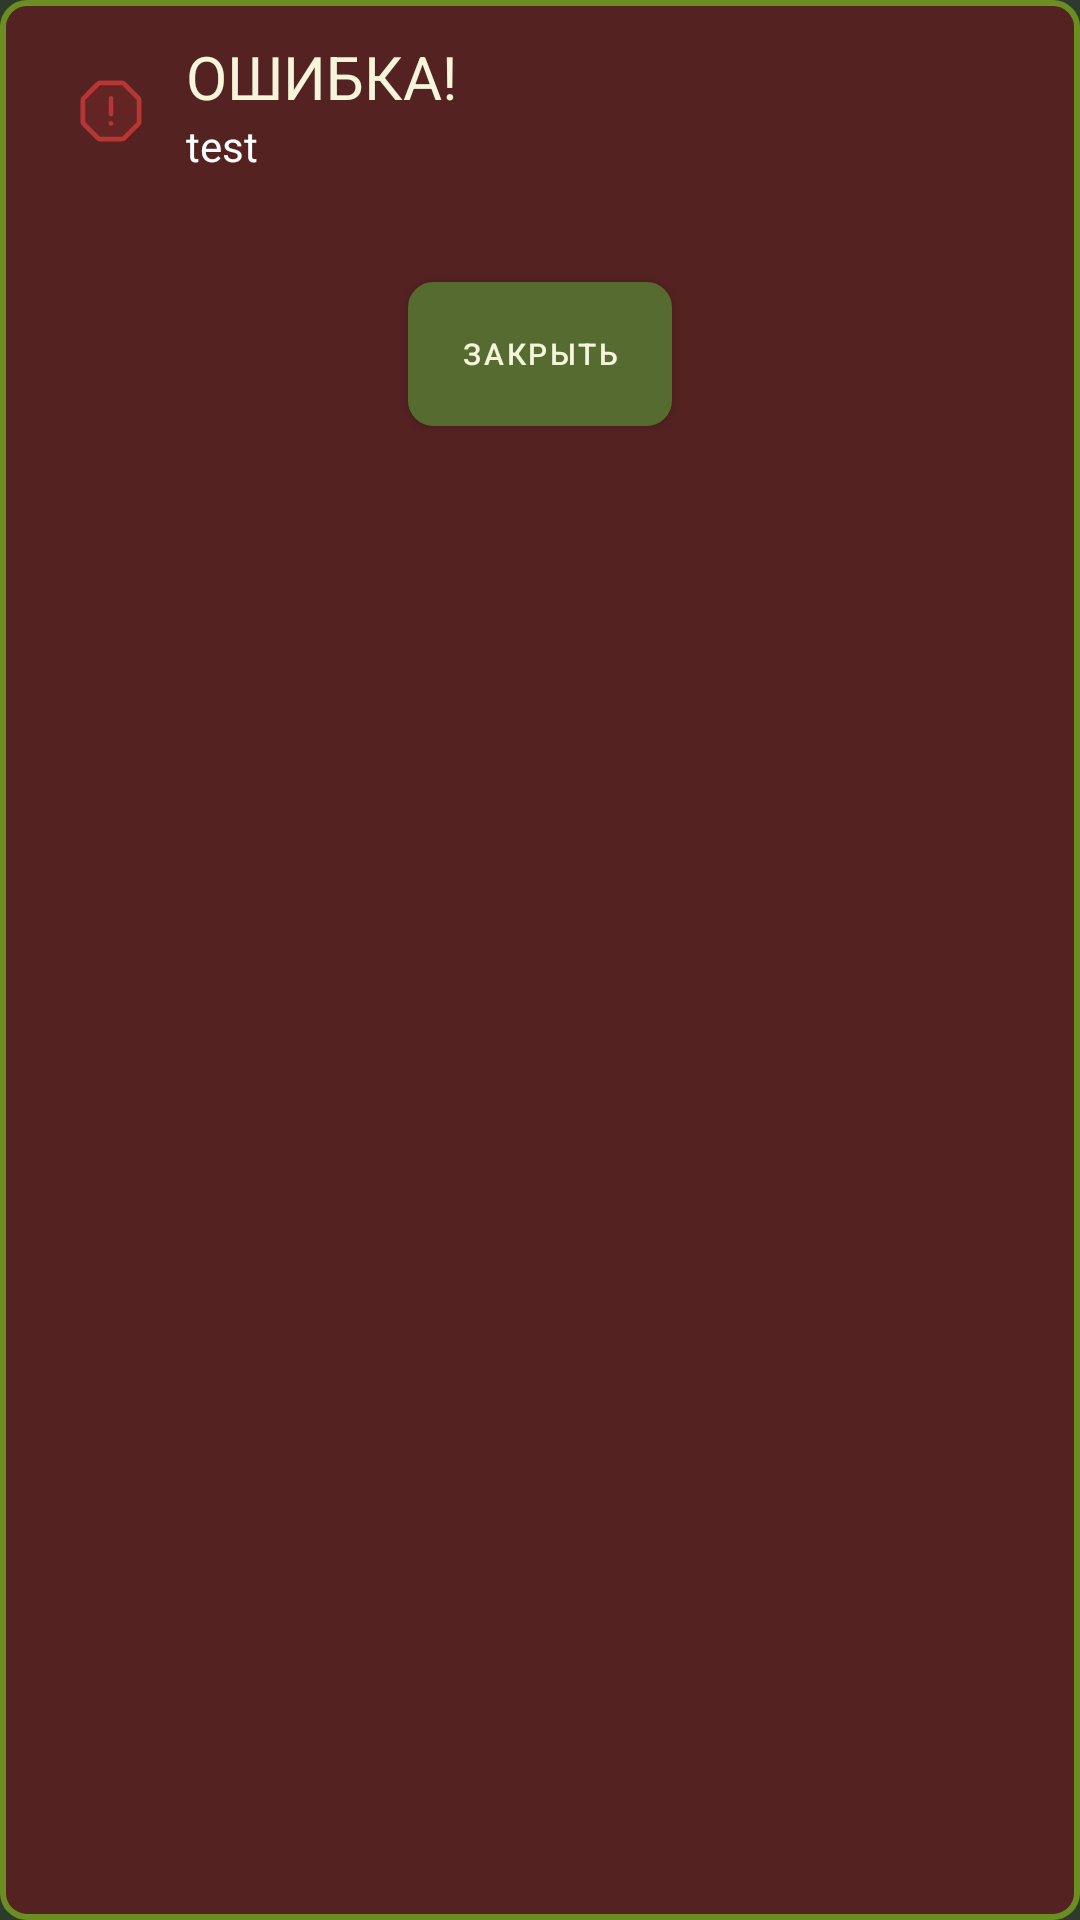

Icons on this 1080px x 1920px Android screen, each with the point to tap as (x=x, y=y):
error: (x=111, y=111)
